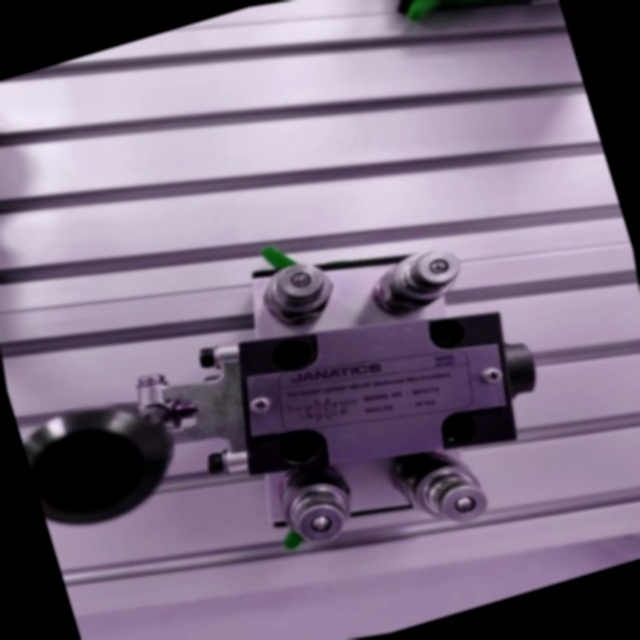4by3 hand lever valve: (0, 129, 611, 640)
